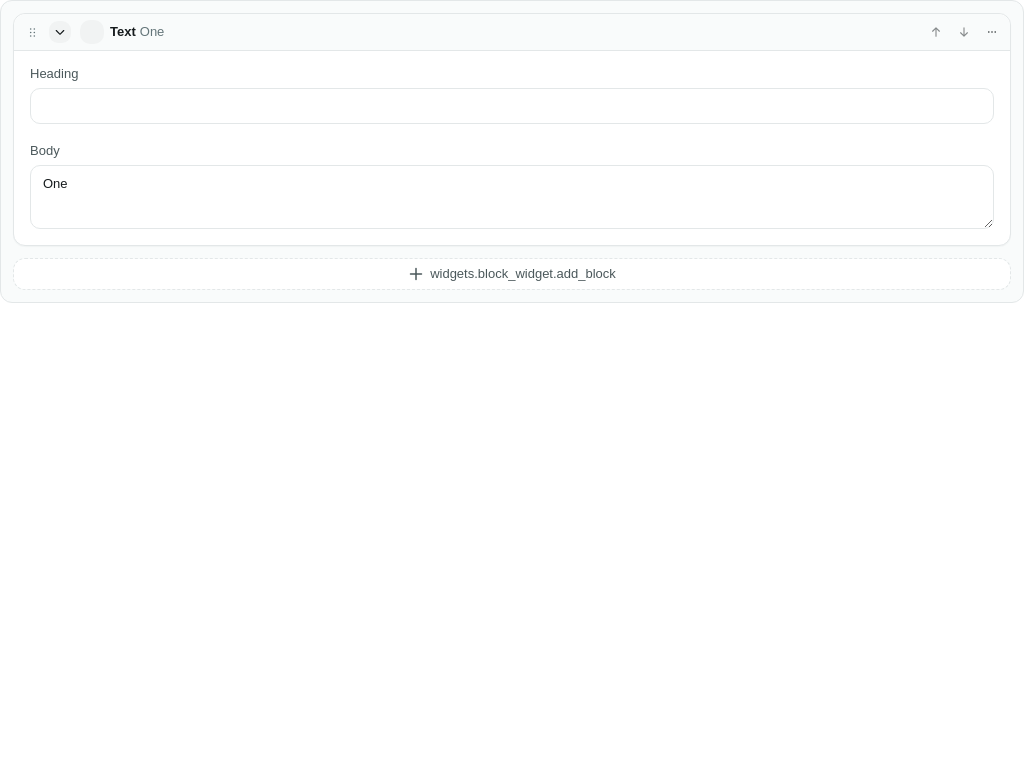
BlockWidget › adds a block from the picker, open and with a new id
Click the button "widgets.block_widget.add_block" at (512, 274), box [13,258,1011,290]
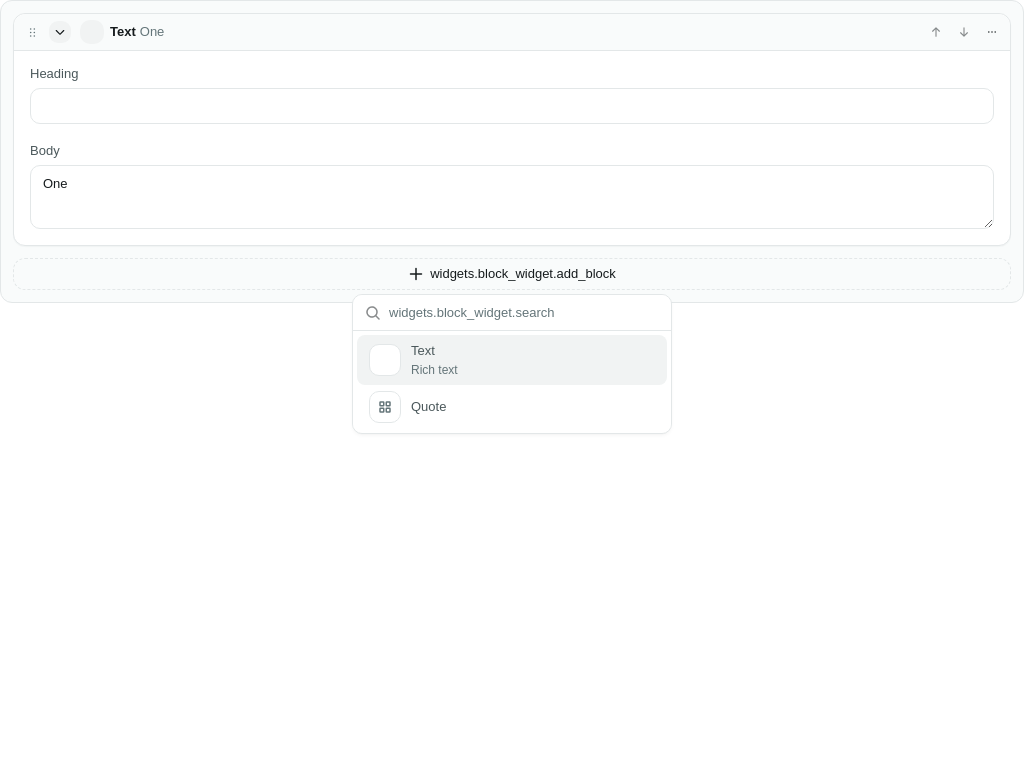
Click the option "Quote" at (385, 406), box [369,390,446,422]
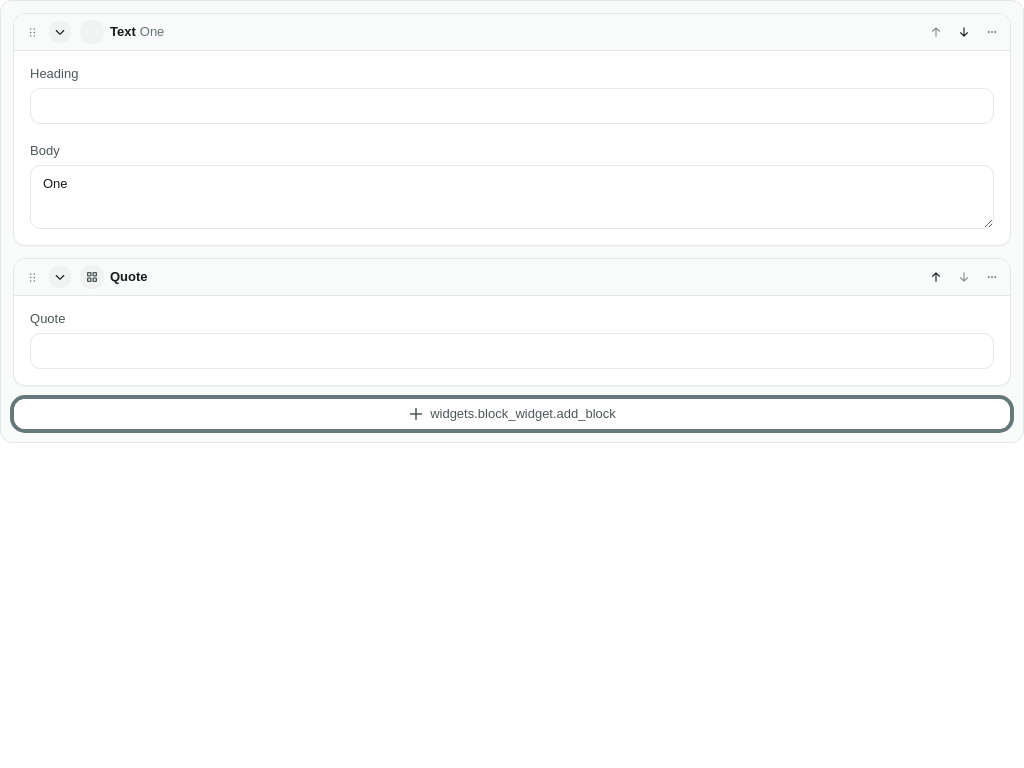
Result: the number of elements with test id "block" is 2 at [13,13,1011,246]; [13,258,1011,386]
Result: the text "quote" is shown at [30,312,65,325]
